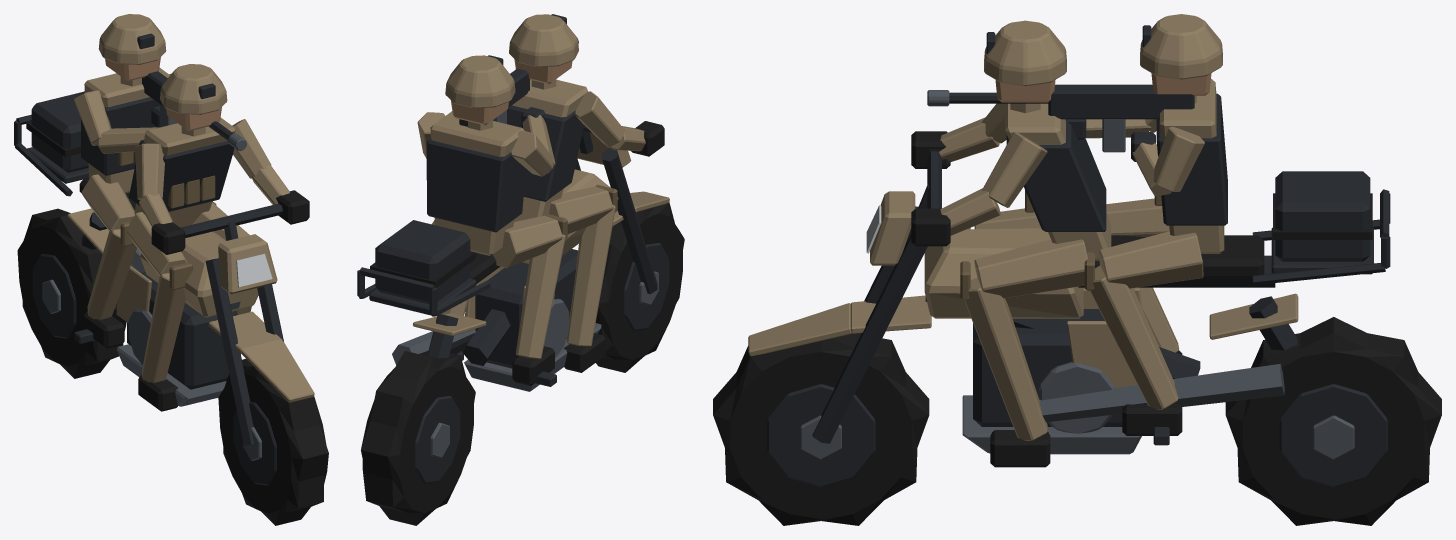
The model's file is moto-recon-n1.glb.
3 views of the same model, side by side, from view 1: azimuth 30°, elevation 25°; view 2: azimuth 150°, elevation 25°; view 3: azimuth 270°, elevation 25° (orthographic). The views are drawn at different scales.
Parts seen in each view (by area): view 1: casco, wheel_F, wheel_B, turret_yaw, gun_pitch; view 2: casco, wheel_B, turret_yaw, wheel_F, gun_pitch; view 3: casco, wheel_B, wheel_F, turret_yaw, gun_pitch.
Part boxes in pixels (x1,y1,x2,y2): casco: [14, 64, 314, 445]; wheel_F: [218, 359, 328, 525]; wheel_B: [17, 208, 126, 378]; turret_yaw: [81, 14, 169, 193]; gun_pitch: [73, 71, 246, 153]; casco: [357, 14, 669, 391]; wheel_B: [361, 350, 475, 525]; turret_yaw: [426, 55, 525, 255]; wheel_F: [595, 202, 684, 372]; gun_pitch: [417, 37, 578, 176]; casco: [748, 20, 1390, 467]; wheel_B: [1225, 317, 1441, 525]; wheel_F: [713, 333, 929, 525]; turret_yaw: [1140, 14, 1227, 253]; gun_pitch: [927, 84, 1204, 196].
Bounding box in the file's own units: 0.294 × 0.745 × 0.9954.
